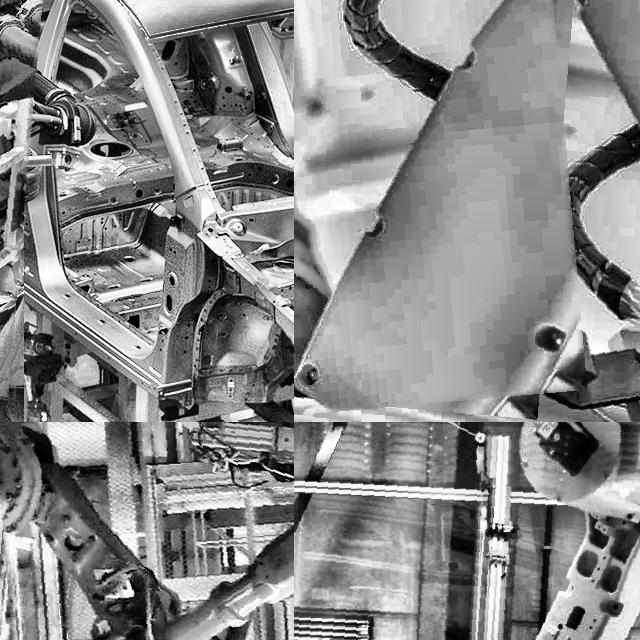robot: (294, 0, 640, 422), (294, 0, 574, 419), (294, 422, 640, 640), (0, 422, 294, 640), (0, 422, 294, 640)
